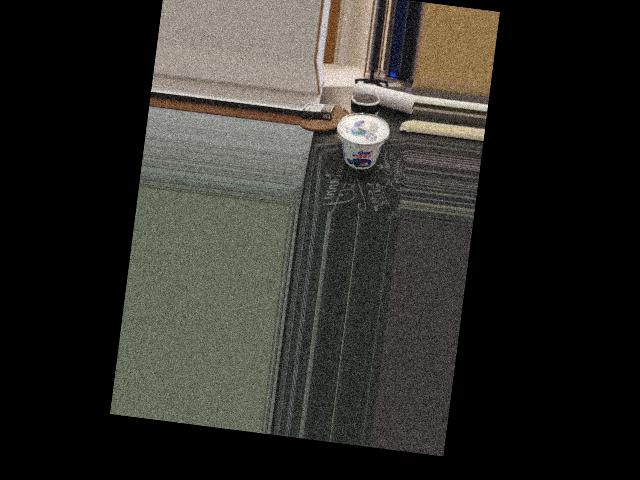cotage: (334, 109, 391, 175)
